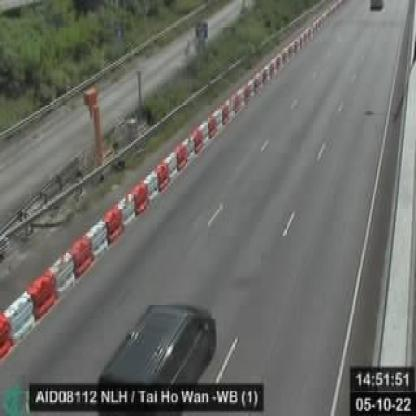Car: (96, 301, 215, 384)
